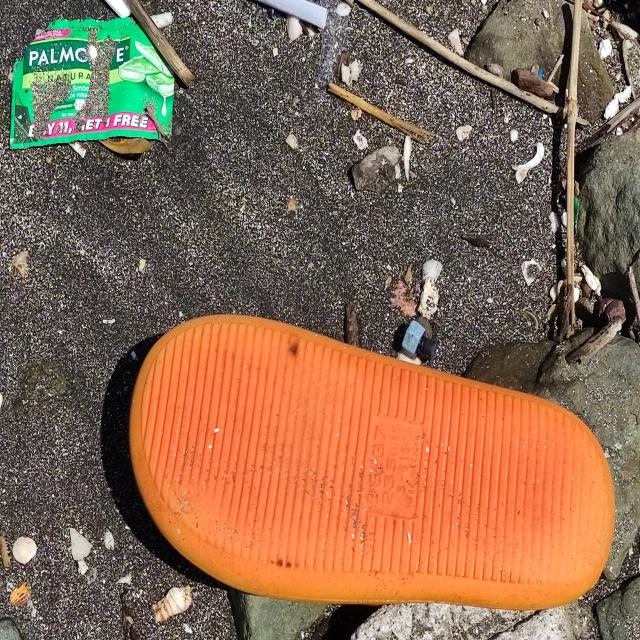plastic_waste: (14, 22, 176, 152)
rubber_waste: (127, 313, 615, 611)
